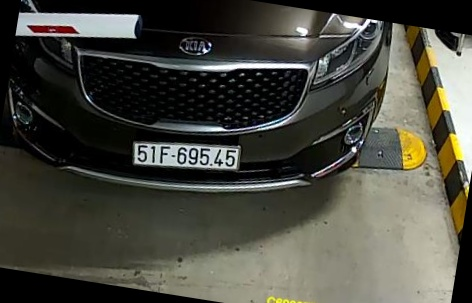plate: (131, 136, 253, 178)
